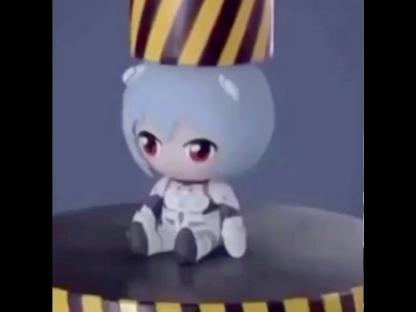rei-plush: (113, 52, 277, 270)
